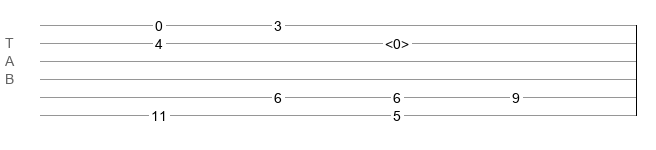0: (155, 18, 163, 28)
11: (151, 108, 167, 118)
3: (274, 18, 282, 28)
4: (155, 36, 163, 46)
5: (393, 108, 401, 118)
6: (274, 90, 282, 100), (393, 90, 401, 100)
9: (512, 90, 520, 100)
harmonic: (385, 36, 409, 46)
